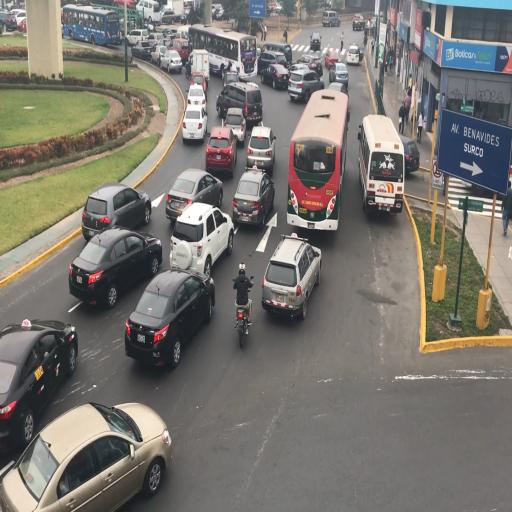auto: (1, 401, 170, 511), (0, 321, 77, 456), (125, 266, 213, 366), (69, 226, 162, 309), (261, 232, 319, 319), (170, 200, 232, 276), (80, 181, 150, 242), (164, 168, 222, 224), (232, 168, 274, 228), (217, 79, 261, 127), (205, 126, 239, 176), (245, 125, 275, 175), (288, 69, 323, 103), (181, 102, 208, 145), (220, 108, 246, 146), (259, 62, 290, 90), (261, 40, 291, 67), (170, 36, 192, 66), (296, 52, 322, 77), (136, 0, 161, 25), (186, 84, 206, 114), (159, 49, 183, 73), (328, 60, 348, 86), (132, 38, 154, 60), (4, 10, 26, 32), (126, 28, 150, 46), (324, 48, 343, 70), (145, 32, 168, 50), (160, 7, 180, 25), (150, 43, 166, 65), (346, 44, 360, 66), (322, 10, 340, 27), (182, 0, 196, 20), (310, 32, 322, 52), (352, 15, 365, 31), (212, 3, 225, 17), (329, 8, 339, 16)
bus: (189, 48, 210, 88), (170, 0, 188, 23)
camion: (234, 286, 256, 348)
moto: (287, 90, 346, 231), (359, 114, 406, 218), (190, 22, 252, 80), (63, 4, 120, 46)
